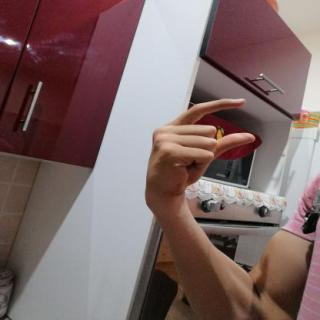DELL: (137, 90, 266, 205)
